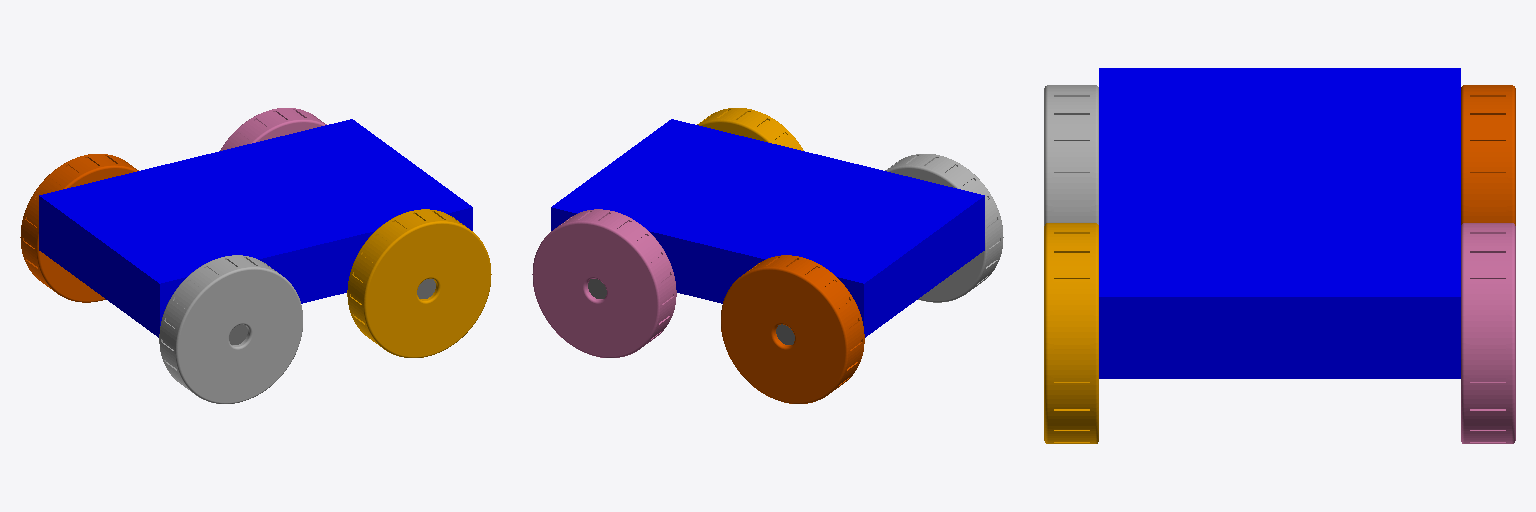
URDF robot description (farad_amr):
<?xml version="1.0"?>
<robot name="farad_amr">

<!-- Base link (chassis) -->
<link name="base_link">
<visual>
<geometry>
<box size="0.6 0.4 0.1"/>
</geometry>
<material name="blue">
<color rgba="0 0 1 1"/>
</material>
</visual>
<collision>
<geometry>
<box size="0.6 0.4 0.1"/>
</geometry>
</collision>
<inertial>
<mass value="10.0"/>
<inertia ixx="0.1" ixy="0.0" ixz="0.0" iyy="0.1" iyz="0.0" izz="0.1"/>
</inertial>
</link>




<!-- Left front shaft -->
<link name="left_front_shaft">
<visual>
<geometry>
<cylinder radius="0.02" length="0.10"/>
</geometry>
<origin xyz="0 0 0" rpy="1.5708 0 0"/>
<material name="gray">
<color rgba="0.5 0.5 0.5 1"/>
</material>
</visual>
<collision>
<geometry>
<cylinder radius="0.02" length="0.10"/>
</geometry>
<origin xyz="0 0 0" rpy="1.5708 0 0"/>
</collision>
<inertial>
<mass value="0.2"/>
<inertia ixx="0.01" ixy="0.0" ixz="0.0" iyy="0.01" iyz="0.0" izz="0.01"/>
</inertial>
</link>

<!-- Left rear shaft -->
<link name="left_rear_shaft">
<visual>
<geometry>
<cylinder radius="0.02" length="0.10"/>
</geometry>
<origin xyz="0 0 0" rpy="1.5708 0 0"/>
<material name="gray">
<color rgba="0.5 0.5 0.5 1"/>
</material>
</visual>
<collision>
<geometry>
<cylinder radius="0.02" length="0.10"/>
</geometry>
<origin xyz="0 0 0" rpy="1.5708 0 0"/>
</collision>
<inertial>
<mass value="0.2"/>
<inertia ixx="0.01" ixy="0.0" ixz="0.0" iyy="0.01" iyz="0.0" izz="0.01"/>
</inertial>
</link>

<!-- Right front shaft -->
<link name="right_front_shaft">
<visual>
<geometry>
<cylinder radius="0.02" length="0.10"/>
</geometry>
<origin xyz="0 0 0" rpy="1.5708 0 0"/>
<material name="gray">
<color rgba="0.5 0.5 0.5 1"/>
</material>
</visual>
<collision>
<geometry>
<cylinder radius="0.02" length="0.10"/>
</geometry>
<origin xyz="0 0 0" rpy="1.5708 0 0"/>
</collision>
<inertial>
<mass value="0.2"/>
<inertia ixx="0.01" ixy="0.0" ixz="0.0" iyy="0.01" iyz="0.0" izz="0.01"/>
</inertial>
</link>

<!-- Right rear shaft -->
<link name="right_rear_shaft">
<visual>
<geometry>
<cylinder radius="0.02" length="0.10"/>
</geometry>
<origin xyz="0 0 0" rpy="1.5708 0 0"/>
<material name="gray">
<color rgba="0.5 0.5 0.5 1"/>
</material>
</visual>
<collision>
<geometry>
<cylinder radius="0.02" length="0.10"/>
</geometry>
<origin xyz="0 0 0" rpy="1.5708 0 0"/>
</collision>
<inertial>
<mass value="0.2"/>
<inertia ixx="0.01" ixy="0.0" ixz="0.0" iyy="0.01" iyz="0.0" izz="0.01"/>
</inertial>
</link>



<!-- ================= TIRES (MESH) ================= -->

<!-- Left front tire (aligned with shaft, at +Y end) -->
<link name="left_front_tire">
	<inertial>
		<origin xyz="0 0 0"/>
		<mass value="1.0"/>
		<inertia ixx="0.02" iyy="0.02" izz="0.02" ixy="0" ixz="0" iyz="0"/>
	</inertial>
	<visual>
		<origin xyz="0 0.03 0" rpy="1.5708 0 0"/>
		<geometry>
			<mesh filename="tire_7.stl" scale="0.001 0.001 0.001"/>
		</geometry>
	</visual>
	<collision>
		<origin xyz="0 0.03 0" rpy="1.5708 0 0"/>
		<geometry>
			<mesh filename="tire_7.stl" scale="0.001 0.001 0.001"/>
		</geometry>
	</collision>
</link>

<!-- Left rear tire (aligned with shaft, at +Y end) -->
<link name="left_rear_tire">
	<inertial>
		<origin xyz="0 0 0"/>
		<mass value="1.0"/>
		<inertia ixx="0.02" iyy="0.02" izz="0.02" ixy="0" ixz="0" iyz="0"/>
	</inertial>
	<visual>
		<origin xyz="0 0.03 0" rpy="1.5708 0 0"/>
		<geometry>
			<mesh filename="tire_7.stl" scale="0.001 0.001 0.001"/>
		</geometry>
	</visual>
	<collision>
		<origin xyz="0 0.03 0" rpy="1.5708 0 0"/>
		<geometry>
			<mesh filename="tire_7.stl" scale="0.001 0.001 0.001"/>
		</geometry>
	</collision>
</link>

<!-- Right front tire (aligned with shaft, at +Y end) -->
<link name="right_front_tire">
	<inertial>
		<origin xyz="0 0 0"/>
		<mass value="1.0"/>
		<inertia ixx="0.02" iyy="0.02" izz="0.02" ixy="0" ixz="0" iyz="0"/>
	</inertial>
	<visual>
		<origin xyz="0 -0.03 0" rpy="1.5708 0 0"/>
		<geometry>
			<mesh filename="tire_7.stl" scale="0.001 0.001 0.001"/>
		</geometry>
	</visual>
	<collision>
		<origin xyz="0 -0.03 0" rpy="1.5708 0 0"/>
		<geometry>
			<mesh filename="tire_7.stl" scale="0.001 0.001 0.001"/>
		</geometry>
	</collision>
</link>

<!-- Right rear tire (aligned with shaft, at +Y end) -->
<link name="right_rear_tire">
	<inertial>
		<origin xyz="0 0 0"/>
		<mass value="1.0"/>
		<inertia ixx="0.02" iyy="0.02" izz="0.02" ixy="0" ixz="0" iyz="0"/>
	</inertial>
	<visual>
		<origin xyz="0 -0.03 0" rpy="1.5708 0 0"/>
		<geometry>
			<mesh filename="tire_7.stl" scale="0.001 0.001 0.001"/>
		</geometry>
	</visual>
	<collision>
		<origin xyz="0 -0.03 0" rpy="1.5708 0 0"/>
		<geometry>
			<mesh filename="tire_7.stl" scale="0.001 0.001 0.001"/>
		</geometry>
	</collision>
</link>



<!-- ================= SHAFTS AND TIRES ASSEMBLY ================= -->

<!-- Left front shaft (front left corner) -->
<joint name="base_link_to_left_front_shaft" type="fixed">
	<parent link="base_link"/>
	<child link="left_front_shaft"/>
	<origin xyz="-0.18 0.2 -0.05" rpy="0 0 0"/>
</joint>

<!-- Attach left front tire to shaft with continuous joint (rotates freely) -->
<joint name="left_front_shaft_to_tire" type="continuous">
	<parent link="left_front_shaft"/>
	<child link="left_front_tire"/>
	<!-- Tire is placed at end of shaft, so no offset needed -->
	<origin xyz="0 0 0" rpy="0 0 0"/>
	<axis xyz="0 1 0"/>
</joint>

<!-- Left rear shaft (rear left corner) -->
<joint name="base_link_to_left_rear_shaft" type="fixed">
	<parent link="base_link"/>
	<child link="left_rear_shaft"/>
	<origin xyz="0.18 0.2 -0.05" rpy="0 0 0"/>
</joint>

<!-- Attach left rear tire to shaft with continuous joint -->
<joint name="left_rear_shaft_to_tire" type="continuous">
	<parent link="left_rear_shaft"/>
	<child link="left_rear_tire"/>
	<origin xyz="0 0 0" rpy="0 0 0"/>
	<axis xyz="0 1 0"/>
</joint>

<!-- Right front shaft (front right corner) -->
<joint name="base_link_to_right_front_shaft" type="fixed">
	<parent link="base_link"/>
	<child link="right_front_shaft"/>
	<origin xyz="-0.18 -0.2 -0.05" rpy="0 0 0"/>
</joint>

<!-- Attach right front tire to shaft with continuous joint -->
<joint name="right_front_shaft_to_tire" type="continuous">
	<parent link="right_front_shaft"/>
	<child link="right_front_tire"/>
	<origin xyz="0 0 0" rpy="0 0 0"/>
	<axis xyz="0 1 0"/>
</joint>

<!-- Right rear shaft (rear right corner) -->
<joint name="base_link_to_right_rear_shaft" type="fixed">
	<parent link="base_link"/>
	<child link="right_rear_shaft"/>
	<origin xyz="0.18 -0.2 -0.05" rpy="0 0 0"/>
</joint>

<!-- Attach right rear tire to shaft with continuous joint -->
<joint name="right_rear_shaft_to_tire" type="continuous">
	<parent link="right_rear_shaft"/>
	<child link="right_rear_tire"/>
	<origin xyz="0 0 0" rpy="0 0 0"/>
	<axis xyz="0 1 0"/>
</joint>

</robot>

--- Facts derived from the render (not from the file) ---
The picture shows the robot from 3 angles, left to right: view 1: azimuth 30°, elevation 25°; view 2: azimuth 150°, elevation 25°; view 3: azimuth 270°, elevation 25°; orthographic projection.
Robot: farad_amr — 9 links, 8 joints (4 continuous, 4 fixed); root link base_link; default pose: all joints at 0.
Visible links, largest first — view 1: base_link, right_rear_tire, right_front_tire, left_front_tire, left_rear_tire; view 2: base_link, left_rear_tire, left_front_tire, right_front_tire, right_rear_tire; view 3: base_link, left_rear_tire, right_rear_tire, left_front_tire, right_front_tire.
Boxes of the visible links, box(x1,y1,x2,y2) form: base_link: box(39, 119, 472, 337); right_rear_tire: box(347, 209, 491, 357); right_front_tire: box(159, 255, 302, 403); left_front_tire: box(20, 154, 138, 302); left_rear_tire: box(220, 108, 326, 150); base_link: box(551, 119, 984, 337); left_rear_tire: box(532, 209, 676, 357); left_front_tire: box(721, 255, 864, 403); right_front_tire: box(885, 154, 1003, 302); right_rear_tire: box(697, 108, 803, 150); base_link: box(1099, 68, 1460, 378); left_rear_tire: box(1461, 223, 1515, 443); right_rear_tire: box(1044, 223, 1098, 443); left_front_tire: box(1461, 85, 1515, 225); right_front_tire: box(1044, 85, 1098, 225).
Bounding box of the posed robot: 0.6043 × 0.5203 × 0.2443 m (x, y, z).
Meshes: 1 distinct files referenced, 4 mesh visuals loaded (1 binary STL).
